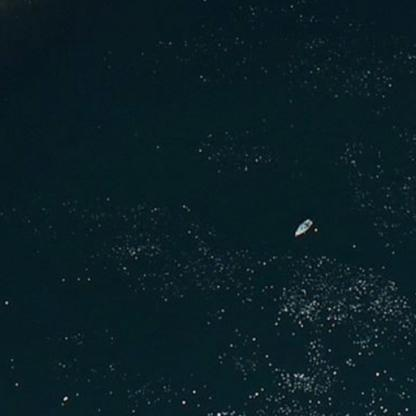ship: (288, 212, 316, 244)
